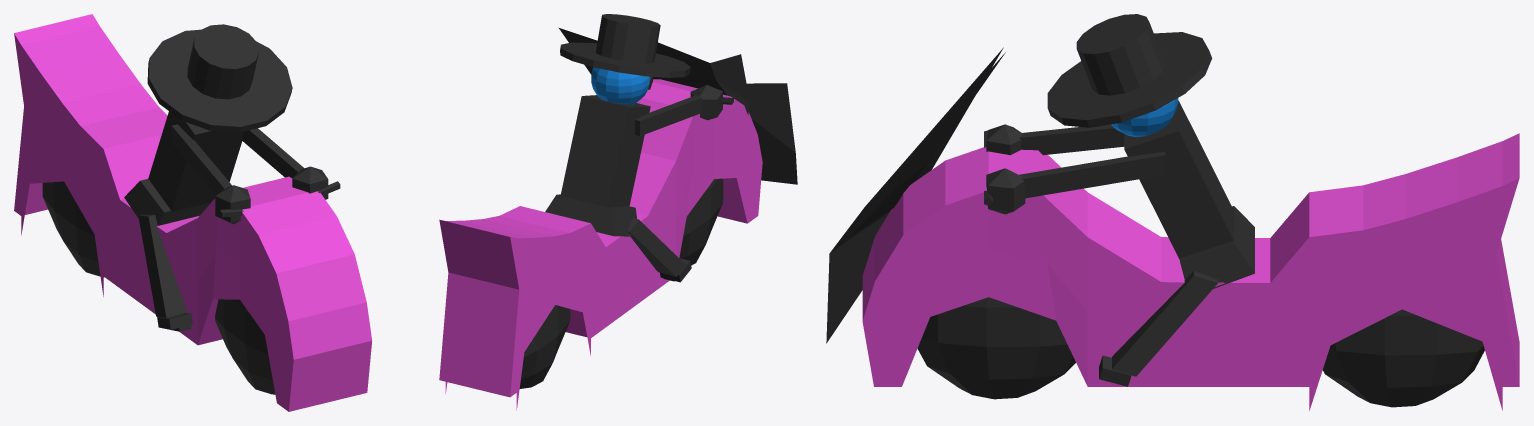
File: BikeMCSkin2.fbx
3 renders of one model, left to right at view 1: azimuth 30°, elevation 25°; view 2: azimuth 150°, elevation 25°; view 3: azimuth 270°, elevation 25°, orthographic. The views are drawn at different scales.
Visible parts, largest first — view 1: Cube, Cylinder.001, Cube.004, Cube.005, Sphere, Cube.002, Sphere.001, Cube.003; view 2: Cube, Cube.004, Cylinder.001, Plane.001, Plane, Sphere.001, Cube.005, Cube.003, Sphere, Cube.002, Sphere.002; view 3: Cube, Cylinder.001, Sphere, Sphere.001, Cube.004, Cube.005, Plane.001, Cube.002, Cube.003, Plane, Sphere.002.
Boxes of the visible parts, x1,y1,x2,y2 form: Cube: (14, 14, 372, 411); Cylinder.001: (147, 24, 292, 132); Cube.004: (148, 111, 244, 211); Cube.005: (171, 124, 328, 224); Sphere: (215, 299, 275, 394); Cube.002: (138, 214, 192, 329); Sphere.001: (42, 181, 104, 277); Cube.003: (124, 179, 210, 225); Cube: (439, 79, 762, 410); Cube.004: (560, 95, 650, 207); Cylinder.001: (560, 14, 690, 77); Plane.001: (559, 28, 797, 184); Plane: (653, 42, 749, 115); Sphere.001: (519, 305, 570, 388); Cube.005: (635, 76, 722, 136); Cube.003: (545, 194, 636, 236); Sphere: (679, 178, 723, 265); Cube.002: (627, 218, 691, 282); Sphere.002: (591, 67, 650, 104); Cube: (862, 133, 1519, 410); Cylinder.001: (1047, 14, 1212, 127); Sphere: (917, 297, 1075, 399); Sphere.001: (1323, 309, 1484, 407); Cube.004: (1124, 100, 1233, 259); Cube.005: (986, 124, 1165, 214); Plane.001: (826, 47, 1003, 343); Cube.002: (1099, 270, 1218, 386); Cube.003: (1180, 206, 1254, 288); Plane: (850, 52, 1005, 236); Sphere.002: (1111, 98, 1178, 137).
Size of the model in its own units: 353 by 432 by 712.
